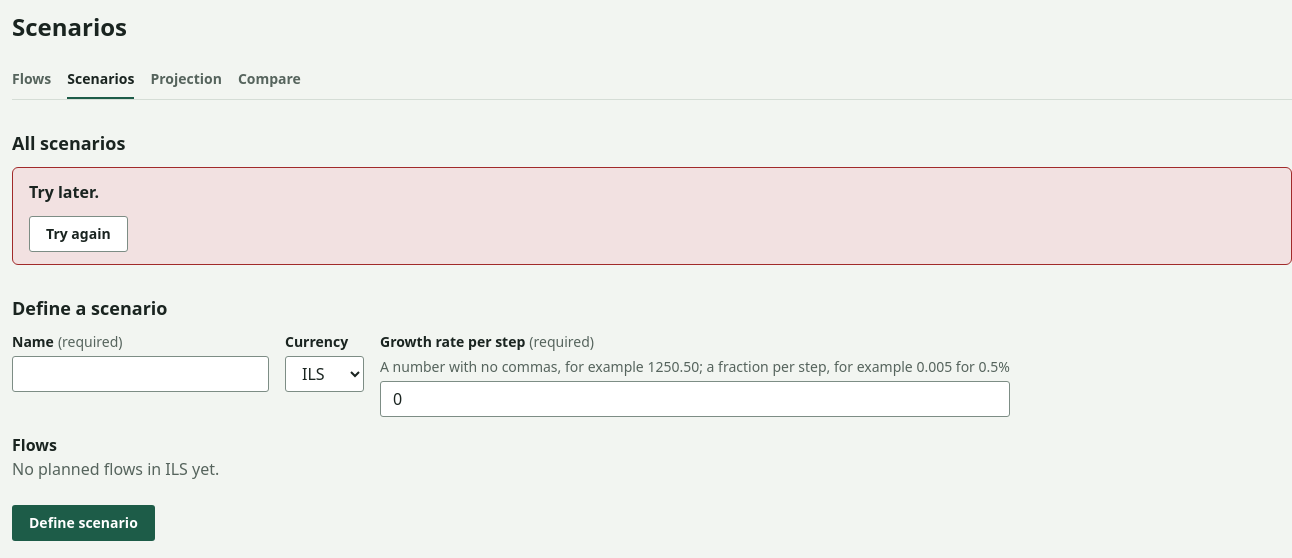
Scenario: ScenariosPage › Given_the_list_fails_When_the_page_renders_Then_an_error_state_offers_a_retry_that_refetches
Check: the text "Try later." is shown, box top-left (29, 180), bottom-right (99, 202)
Step 1. Click the button "Try again" → [78, 234], box top-left (29, 216), bottom-right (128, 252)
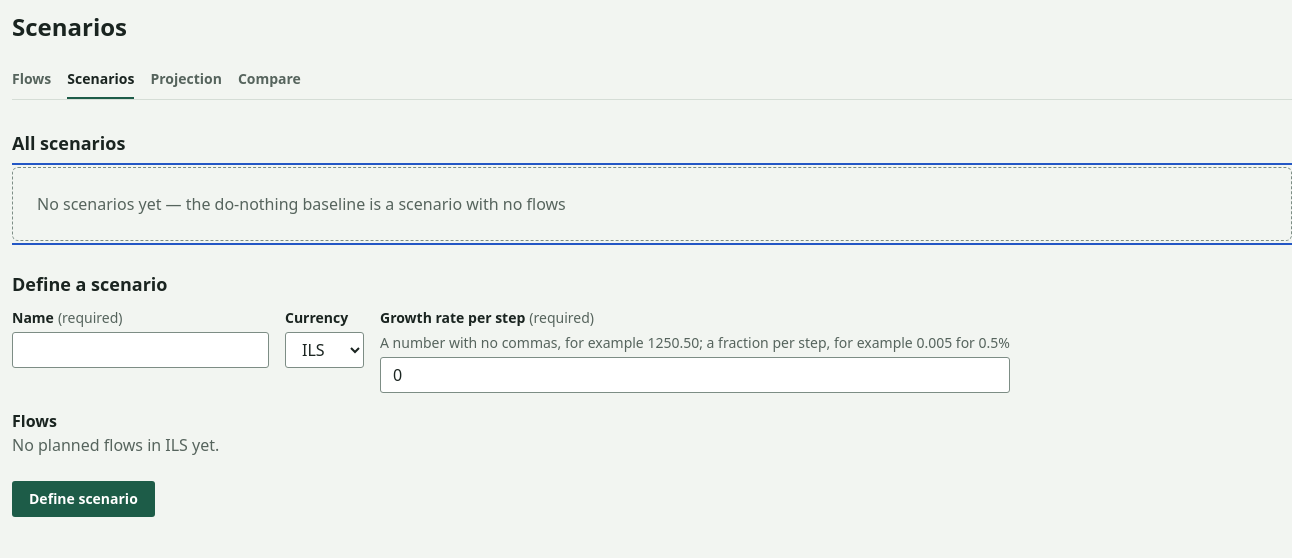
Check: the text "No scenarios yet — the do-nothing baseline is a scenario with no flows" is shown, box top-left (37, 192), bottom-right (566, 216)
